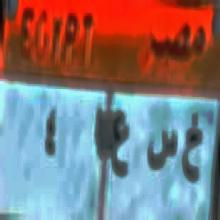4: (42, 105, 59, 161)
ain: (109, 104, 131, 182)
khaa: (181, 108, 202, 188)
seen: (146, 121, 178, 174)
